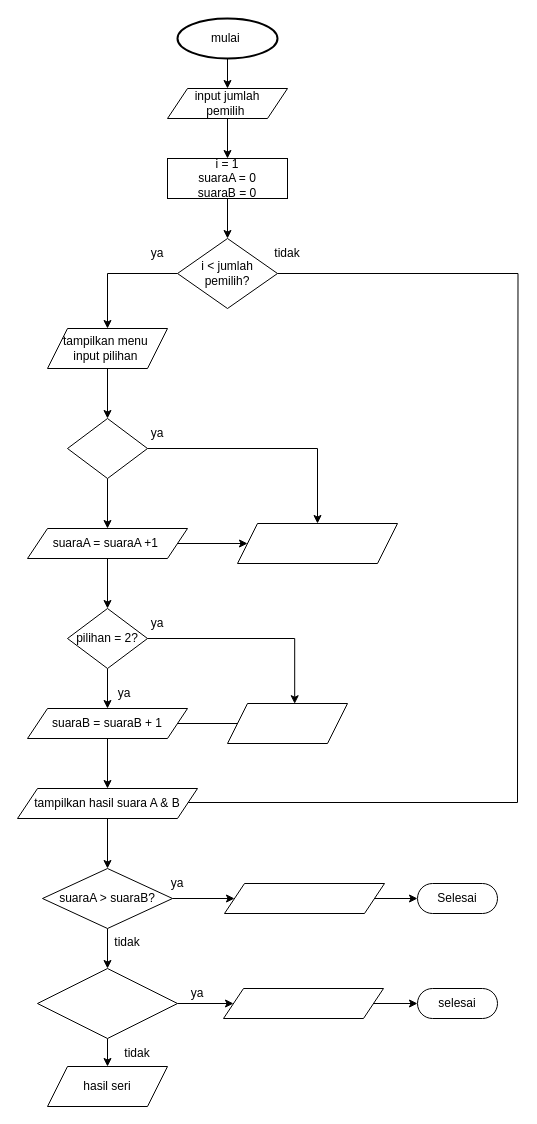
This 537x1124 diagram has some shape labels left out. Here are the shapes that lost their labels. From the top down, the centre of each, then its label:
At (x=107, y=448): "pilihan = 1?".
At (x=317, y=543): "pilihan tidak valid ulangi input".
At (x=287, y=723): "i = i + 1".
At (x=304, y=898): "pemenang: kandidat A".
At (x=107, y=1003): "suaraB > suaraA?".
At (x=303, y=1003): "pemenang kandidat B".
